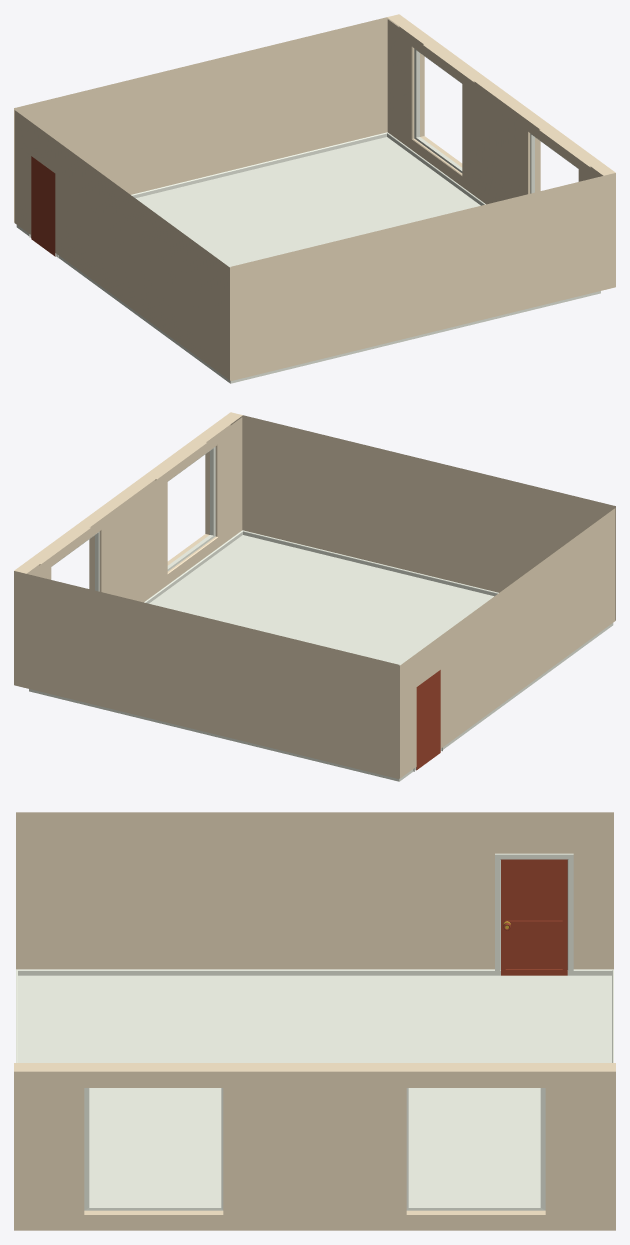
Rendered from casaSanti.fbx.
3 views of the same model, one above another, from view 1: azimuth 30°, elevation 25°; view 2: azimuth 150°, elevation 25°; view 3: azimuth 270°, elevation 25° (orthographic). The views are drawn at different scales.
Visible parts, largest first — view 1: Room, Door; view 2: Room, Door; view 3: Room, Door.
Boxes of the visible parts, x1=… form: Room: x1=14, y1=14, x2=615, y2=383; Door: x1=31, y1=156, x2=55, y2=256; Room: x1=14, y1=412, x2=615, y2=781; Door: x1=416, y1=670, x2=440, y2=770; Room: x1=14, y1=812, x2=615, y2=1230; Door: x1=501, y1=859, x2=567, y2=975.
Size of the model in its own units: 3100 by 910 by 3020.
